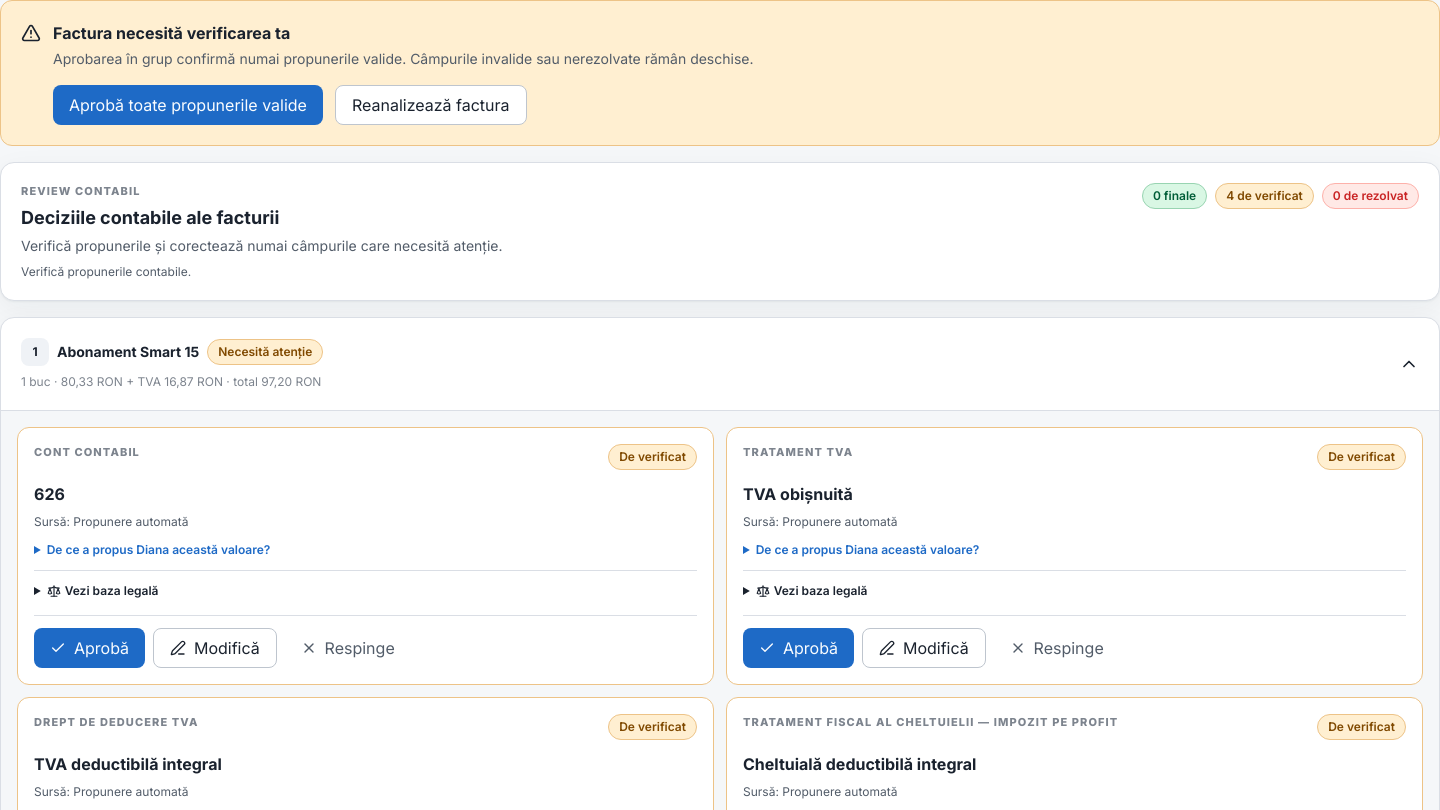
review contabil V2 unificat › prezintă cele patru dimensiuni, sumarul, sursa și citarea lângă decizie
expect the element labelled "Cont contabil" is shown: met, box [17,426,714,684]
expect the element labelled "Tratament TVA" is shown: met, box [726,426,1423,684]
Click the heading "Vezi baza legală" below "626": (103, 590) [47,582,158,598]
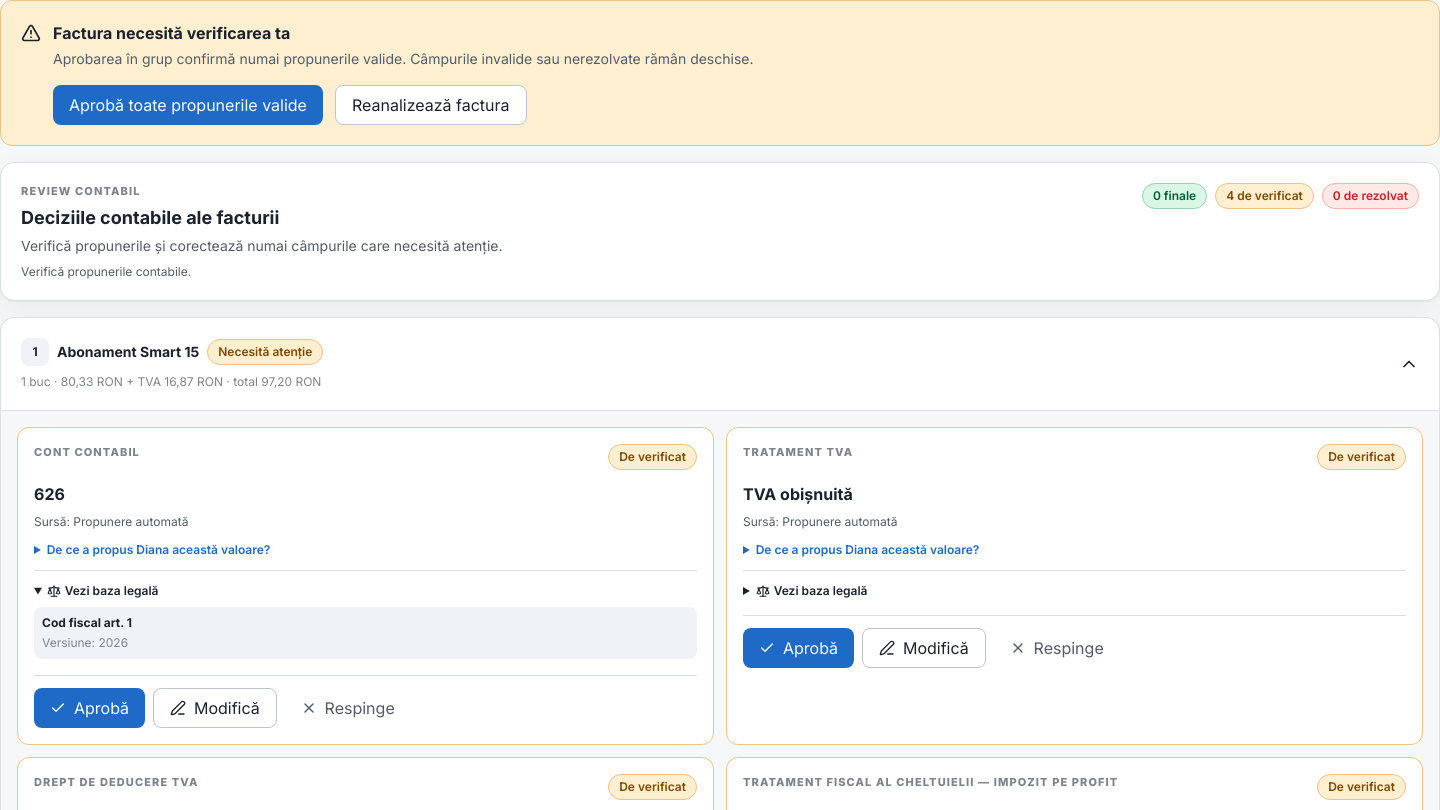
expect the text "Cod fiscal art. 1" is shown: met, box [42,614,132,630]
